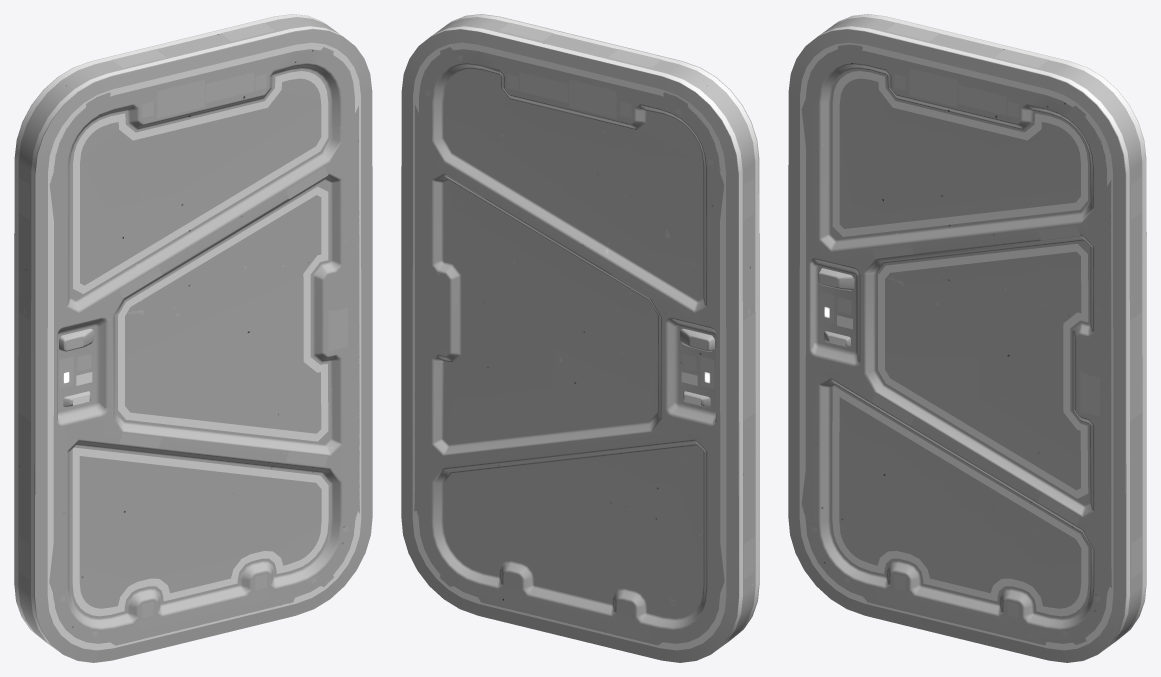
The model's file is SM_Door_2_Merged.fbx.
3 views of the same model, side by side, from view 1: azimuth 30°, elevation 25°; view 2: azimuth 150°, elevation 25°; view 3: azimuth 330°, elevation 25° (orthographic).
Visible parts, largest first — view 1: SM_Door_2_Merged_LOD0; view 2: SM_Door_2_Merged_LOD0; view 3: SM_Door_2_Merged_LOD0.
Part boxes in pixels (x1,y1,x2,y2): SM_Door_2_Merged_LOD0: [14, 14, 372, 662]; SM_Door_2_Merged_LOD0: [401, 14, 759, 662]; SM_Door_2_Merged_LOD0: [788, 14, 1146, 662].
Size of the model in its own units: 153 by 17.38 by 253.
